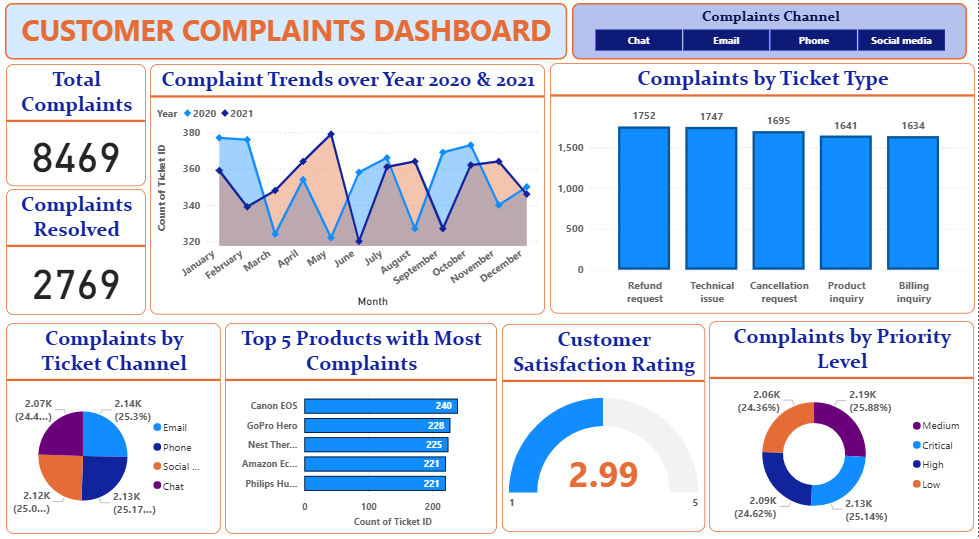

This screenshot's page, from the dashboard's own definition file:
{"tool":"powerbi","page":{"name":"Dashboard","canvas":[1280,720],"ordinal":0},"visuals":[{"type":"card","title":"Total Complaints","fields":{"Values":["CountNonNull(6 1-CustomerSupportTickets.Ticket ID)"]},"box":[7.9,87.7,183.3,159.7],"z":0},{"type":"card","title":"Complaints Resolved","fields":{"Values":["CountNonNull(6 1-CustomerSupportTickets.Ticket Status)"]},"box":[7.9,251.3,183.3,164.9],"z":1000},{"type":"areaChart","title":"Complaint Trends over Year 2020 & 2021","fields":{"Y":["CountNonNull(6 1-CustomerSupportTickets.Ticket ID)"],"Category":["6 1-CustomerSupportTickets.Date of Purchase.Variation.Date Hierarchy.Month"],"Series":["6 1-CustomerSupportTickets.Date of Purchase.Variation.Date Hierarchy.Year"]},"box":[196.8,87.6,516.8,327.5],"z":2000},{"type":"columnChart","title":"Complaints by Ticket Type","fields":{"Category":["6 1-CustomerSupportTickets.Ticket Type"],"Y":["CountNonNull(6 1-CustomerSupportTickets.Ticket ID)"]},"box":[719.6,86.1,555.9,327.5],"z":3000},{"type":"pieChart","title":"Complaints by Ticket Channel","fields":{"Y":["CountNonNull(6 1-CustomerSupportTickets.Ticket ID)"],"Category":["6 1-CustomerSupportTickets.Ticket Channel"]},"box":[7.9,426.8,281.5,276.2],"z":4000},{"type":"donutChart","title":"Complaints by Priority Level","fields":{"Y":["CountNonNull(6 1-CustomerSupportTickets.Ticket ID)"],"Category":["6 1-CustomerSupportTickets.Ticket Priority"]},"box":[928.5,424.2,347,276.4],"z":5000},{"type":"barChart","title":"Top 5 Products with Most Complaints","fields":{"Category":["6 1-CustomerSupportTickets.Product Purchased"],"Y":["CountNonNull(6 1-CustomerSupportTickets.Ticket ID)"]},"box":[294.5,427.2,356.1,276.4],"z":6000},{"type":"gauge","title":"Customer Satisfaction Rating","fields":{"Y":["Avg(6 1-CustomerSupportTickets.Customer Satisfaction Rating)"],"MaxValue":["Max(6 1-CustomerSupportTickets.Customer Satisfaction Rating)"],"MinValue":["Min(6 1-CustomerSupportTickets.Customer Satisfaction Rating)1"]},"box":[656.5,428.7,265.9,271.9],"z":6001},{"type":"textbox","box":[6,7.5,736.2,73.6],"z":6002},{"type":"slicer","title":"Complaints Channel","fields":{"Values":["6 1-CustomerSupportTickets.Ticket Channel"]},"box":[748.2,7.5,516.8,73.6],"z":6003}]}

Visuals, with their boxes in screenshot pixels (x1, y1, x2, y2), scaled from the page's 1280x720 canvas onto the 979x539 screenshot:
"Total Complaints" card: {"left": 6, "top": 66, "right": 146, "bottom": 185}
"Complaints Resolved" card: {"left": 6, "top": 188, "right": 146, "bottom": 312}
"Complaint Trends over Year 2020 & 2021" areaChart: {"left": 151, "top": 66, "right": 546, "bottom": 311}
"Complaints by Ticket Type" columnChart: {"left": 550, "top": 64, "right": 976, "bottom": 310}
"Complaints by Ticket Channel" pieChart: {"left": 6, "top": 320, "right": 221, "bottom": 526}
"Complaints by Priority Level" donutChart: {"left": 710, "top": 318, "right": 976, "bottom": 524}
"Top 5 Products with Most Complaints" barChart: {"left": 225, "top": 320, "right": 498, "bottom": 527}
"Customer Satisfaction Rating" gauge: {"left": 502, "top": 321, "right": 705, "bottom": 524}
textbox: {"left": 5, "top": 6, "right": 568, "bottom": 61}
"Complaints Channel" slicer: {"left": 572, "top": 6, "right": 968, "bottom": 61}
